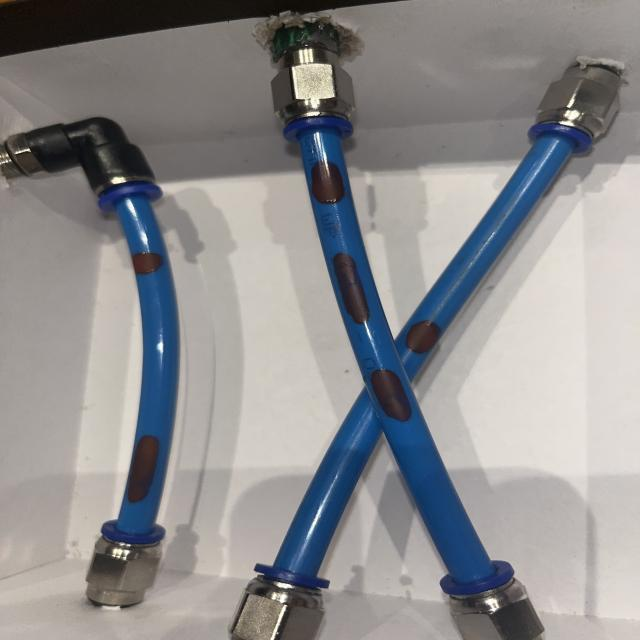hose_damage: (328, 251, 373, 330), (368, 365, 415, 424), (123, 432, 160, 505), (303, 158, 350, 205), (404, 319, 444, 356), (128, 250, 164, 276)
